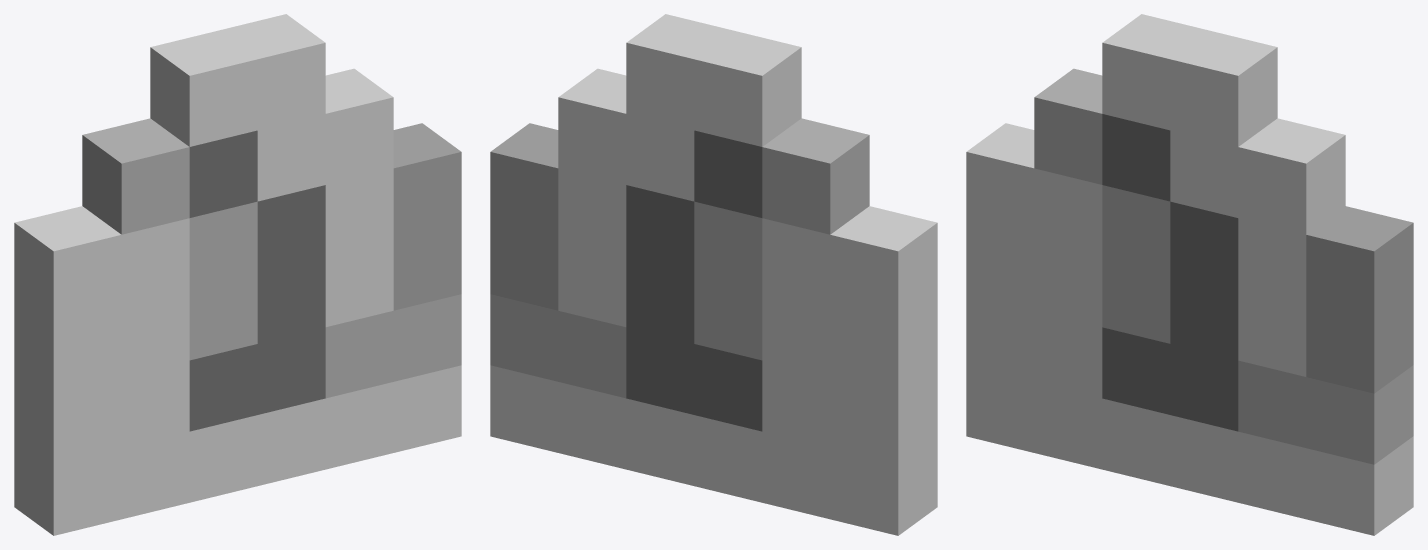
File: others2 - Kopya-2.obj
3 views of the same model, side by side, from view 1: azimuth 30°, elevation 25°; view 2: azimuth 150°, elevation 25°; view 3: azimuth 330°, elevation 25° (orthographic).
Size of the model in its own units: 0.6 by 0.6 by 0.1.
Materials: 1 (1 with a texture image).
